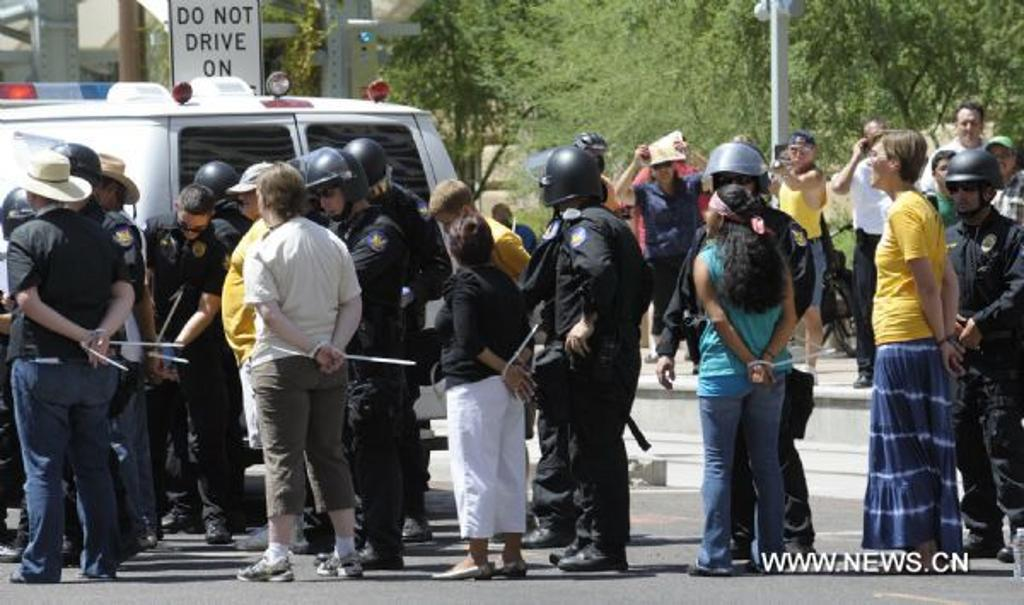face: (717, 162, 756, 206), (951, 171, 987, 214), (317, 183, 351, 222), (867, 146, 891, 187), (238, 181, 263, 214), (989, 145, 1014, 176), (177, 216, 208, 239), (437, 214, 466, 238), (936, 161, 958, 191), (958, 114, 981, 142), (789, 140, 811, 165), (654, 157, 674, 183), (496, 212, 510, 228)
